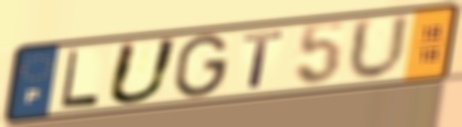5: (294, 19, 347, 88)
G: (170, 32, 232, 100)
L: (58, 47, 102, 110)
T: (240, 29, 288, 91)
U: (103, 35, 184, 107), (345, 11, 414, 83)
